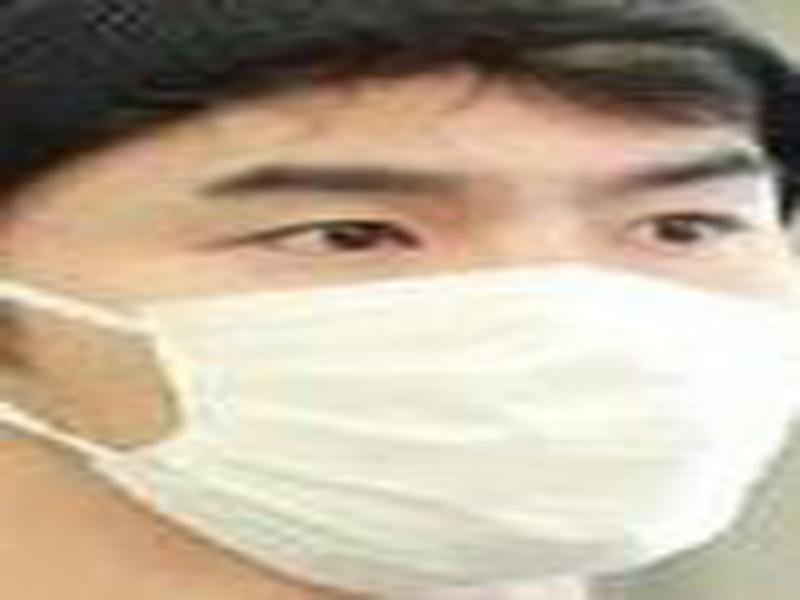with_mask: (1, 32, 799, 597)
